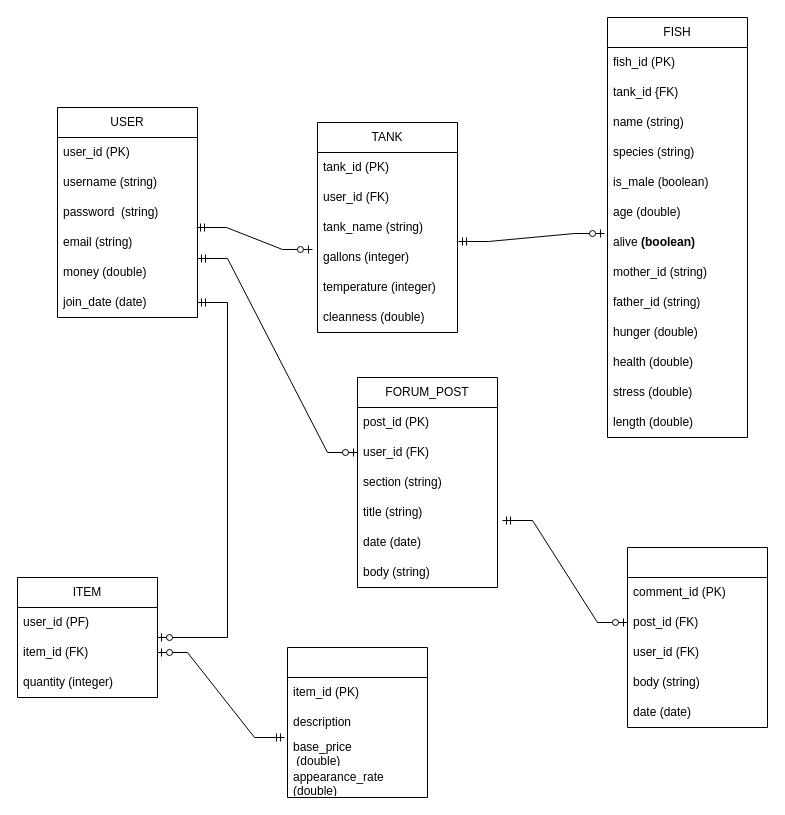
Image size: 785x815. Some labels were removed from this diagram. The box of each missing label's shape, as (x1, y1, x2, y2) in pixels:
FORUM_COMMENT: (626, 546, 768, 728)
ITEM_INFO: (286, 646, 428, 798)
